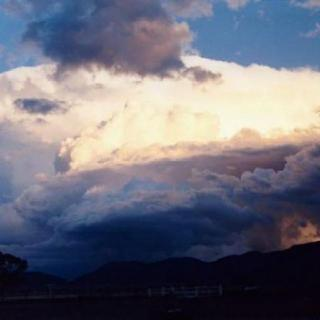Cumulonimbus: (0, 0, 320, 258)
